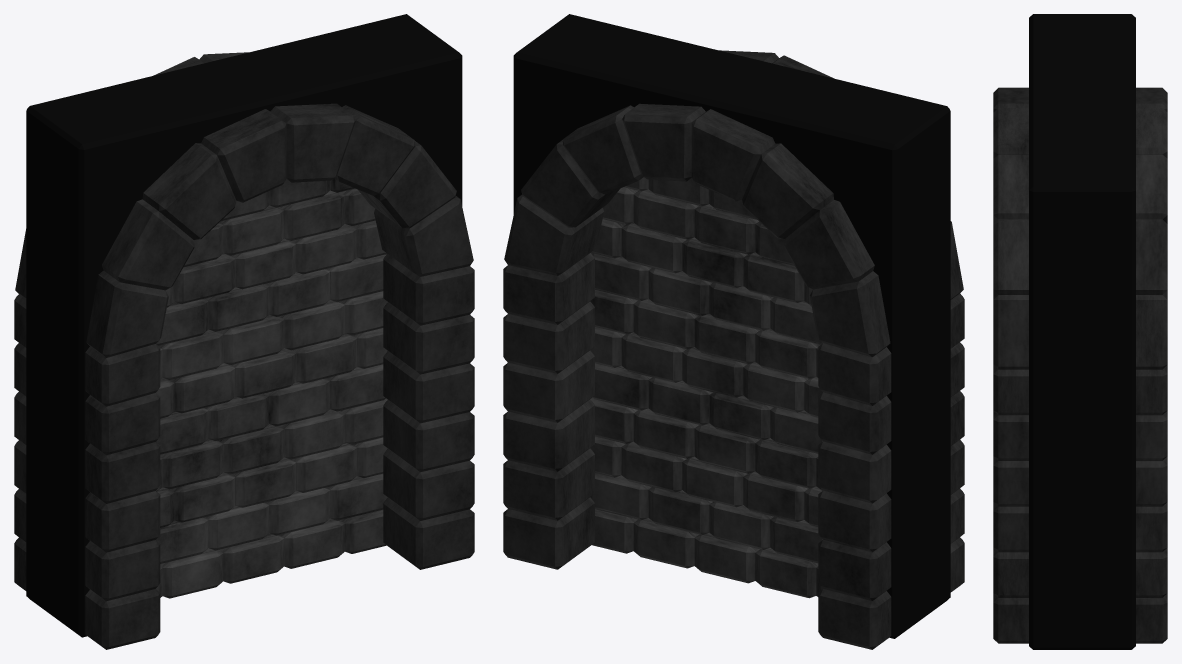
File: garagedoor.fbx
3 renders of one model, left to right at view 1: azimuth 30°, elevation 25°; view 2: azimuth 150°, elevation 25°; view 3: azimuth 270°, elevation 25°, orthographic. The views are drawn at different scales.
Visible parts, largest first — view 1: Plane.001, Cube.001, Cube; view 2: Plane.001, Cube.001, Cube; view 3: Cube, Plane.001.
Boxes of the visible parts, left/top/right/bottom form: Plane.001: left=14, top=52, right=474, bottom=649; Cube.001: left=156, top=178, right=387, bottom=598; Cube: left=26, top=14, right=462, bottom=637; Plane.001: left=503, top=50, right=964, bottom=649; Cube.001: left=590, top=177, right=822, bottom=598; Cube: left=513, top=14, right=950, bottom=638; Cube: left=1029, top=14, right=1135, bottom=649; Plane.001: left=993, top=87, right=1167, bottom=643.
Size of the model in its own units: 809 by 995 by 339.
